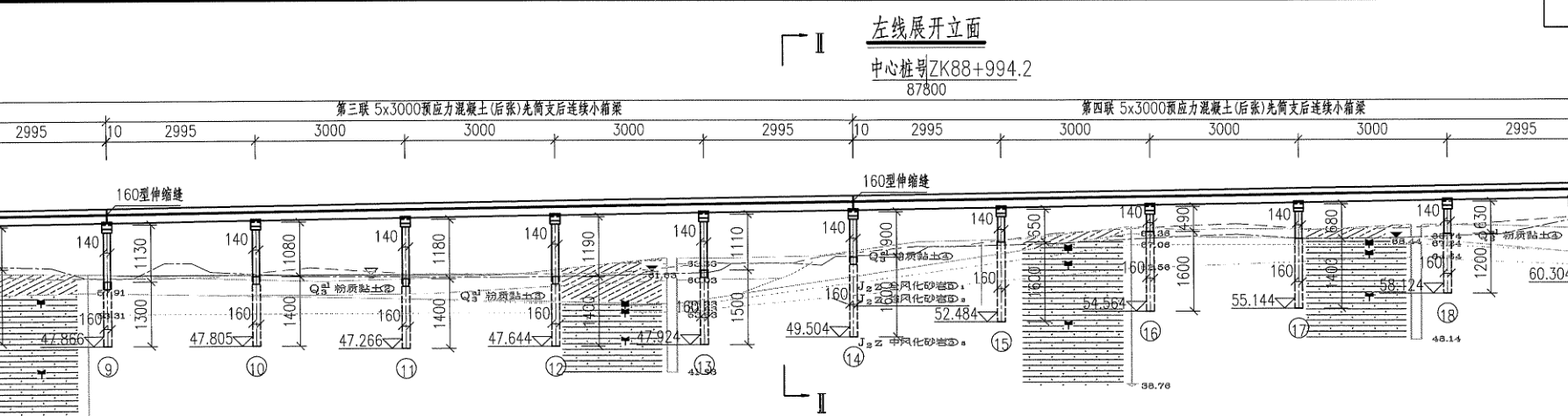A: (4, 84, 1568, 104)
B: (846, 94, 1568, 125), (103, 96, 863, 124)
C: (624, 204, 723, 382), (331, 211, 424, 387), (480, 208, 572, 384), (182, 214, 276, 384), (779, 202, 868, 374), (36, 218, 125, 384), (1077, 198, 1168, 348), (933, 199, 1018, 358), (1225, 197, 1313, 346), (1369, 193, 1464, 330), (1521, 193, 1567, 323)
